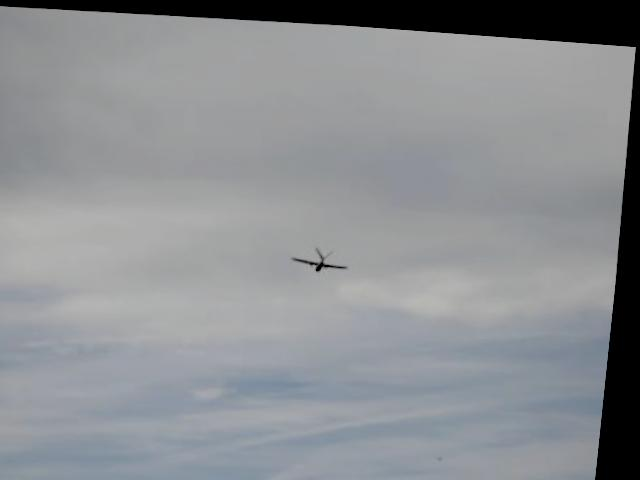uav: (291, 231, 360, 279)
